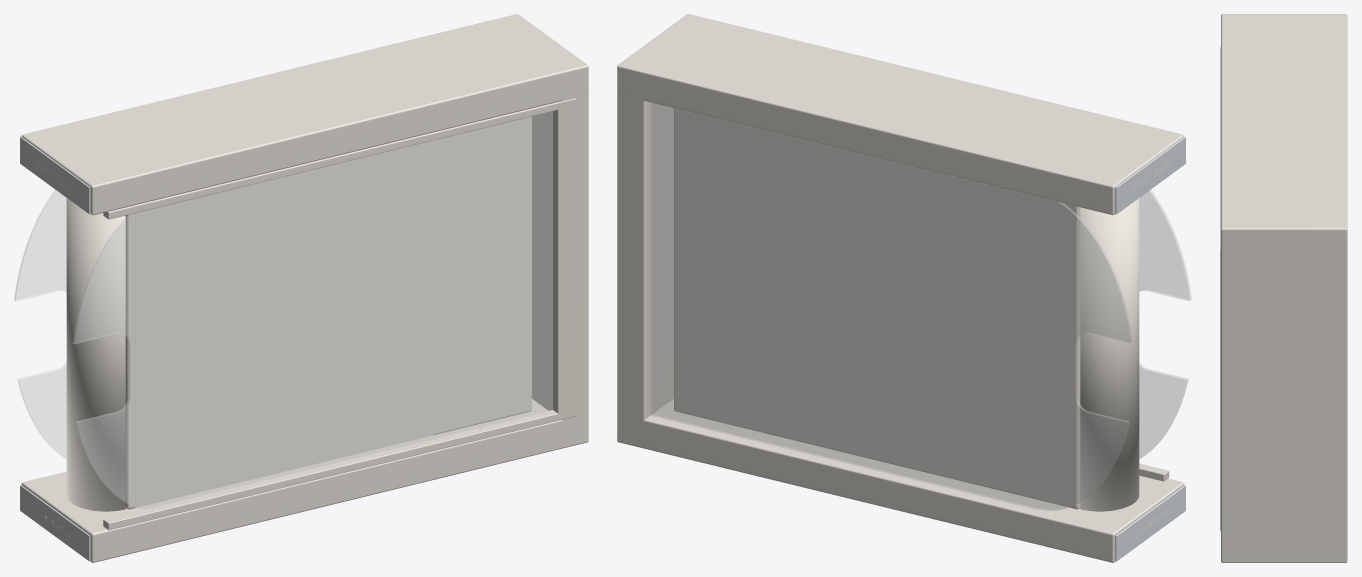
The model's file is album-studio.glb.
The picture shows the model from 3 angles, left to right: view 1: azimuth 30°, elevation 25°; view 2: azimuth 150°, elevation 25°; view 3: azimuth 270°, elevation 25°; orthographic projection. The views are drawn at different scales.
Visible parts, largest first — view 1: Plexiglas anteriore | taglio ovale e presa, FOTO | texture sostituibile, Traversa superiore, Copertina anteriore rivestita, Base custodia, Dorso continuo in tessuto, Montante destro, Bordo frontale destro, Plexiglas posteriore | taglio ovale e presa, Profilo interno inferiore, Profilo interno superiore, Targhetta superiore specchio (+1 smaller); view 2: Plexiglas posteriore | taglio ovale e presa, Copertina posteriore rivestita, Traversa superiore, Base custodia, Montante destro, Dorso continuo in tessuto, Plexiglas anteriore | taglio ovale e presa, Targhetta superiore specchio, Targhetta inferiore specchio; view 3: Montante destro, Traversa superiore, Base custodia, Bordo frontale destro, Profilo interno superiore.
Boxes of the visible parts, x1,y1,x2,y2 form: Plexiglas anteriore | taglio ovale e presa: [73, 111, 552, 509]; FOTO | texture sostituibile: [135, 140, 433, 507]; Traversa superiore: [21, 14, 588, 215]; Copertina anteriore rivestita: [125, 116, 531, 509]; Base custodia: [21, 399, 588, 562]; Dorso continuo in tessuto: [66, 198, 125, 511]; Montante destro: [532, 82, 588, 431]; Bordo frontale destro: [553, 98, 576, 419]; Plexiglas posteriore | taglio ovale e presa: [14, 190, 66, 458]; Profilo interno inferiore: [103, 410, 573, 530]; Profilo interno superiore: [103, 99, 573, 219]; Targhetta superiore specchio: [20, 136, 90, 214]; Plexiglas posteriore | taglio ovale e presa: [650, 103, 1132, 510]; Copertina posteriore rivestita: [674, 108, 1080, 509]; Traversa superiore: [617, 14, 1184, 215]; Base custodia: [617, 399, 1184, 562]; Montante destro: [617, 84, 673, 432]; Dorso continuo in tessuto: [1080, 198, 1139, 511]; Plexiglas anteriore | taglio ovale e presa: [1139, 190, 1191, 458]; Targhetta superiore specchio: [1115, 136, 1185, 214]; Targhetta inferiore specchio: [1115, 485, 1185, 561]; Montante destro: [1221, 243, 1347, 548]; Traversa superiore: [1221, 14, 1347, 253]; Base custodia: [1221, 538, 1347, 562]; Bordo frontale destro: [1220, 248, 1220, 530]; Profilo interno superiore: [1220, 47, 1220, 247].
Size of the model in its own units: 0.4325 by 0.306 by 0.1055.
7 materials, 2 textured.
